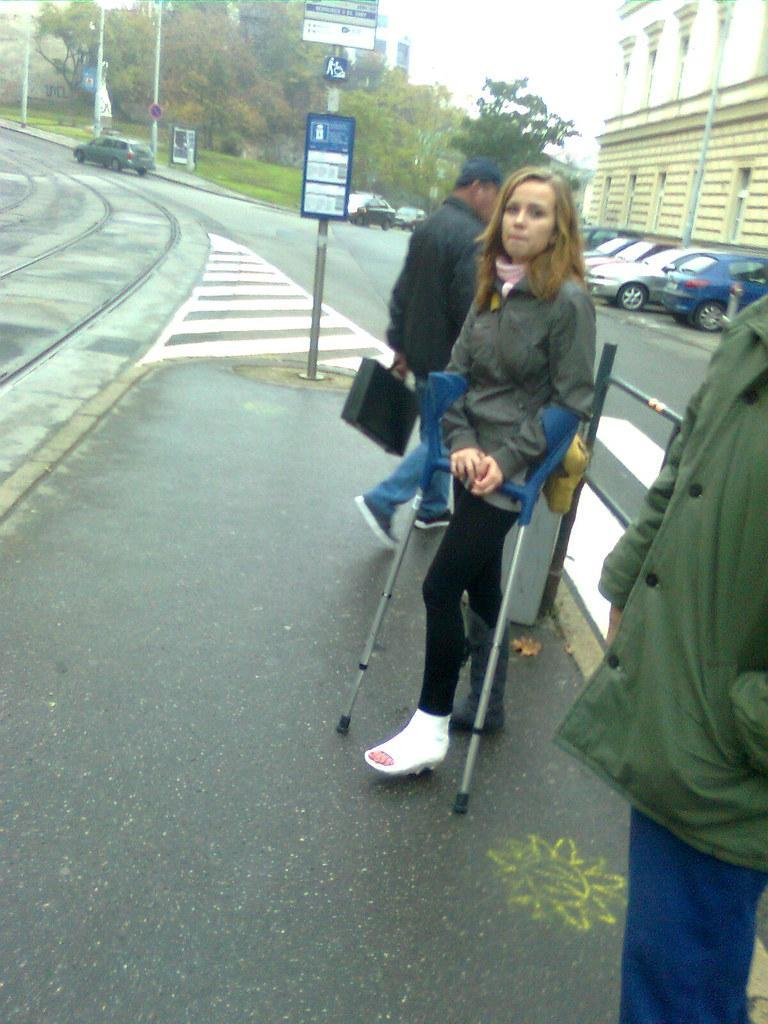crutches: (316, 161, 607, 840)
